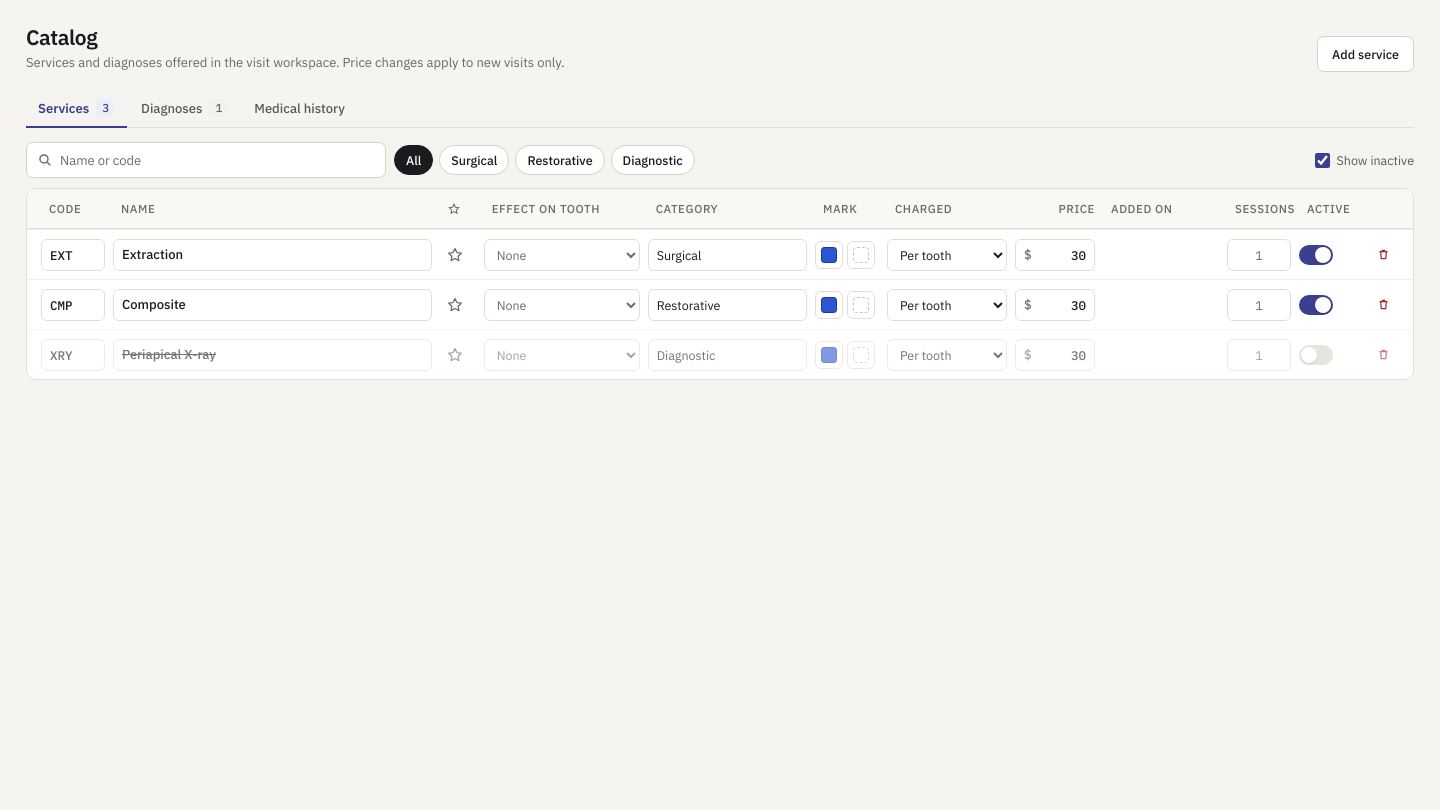
Test: CatalogPage › saves the changed rows as one batch
Click the 2nd button named "Frequently used". click: [455, 305]
box: [440,290,470,320]
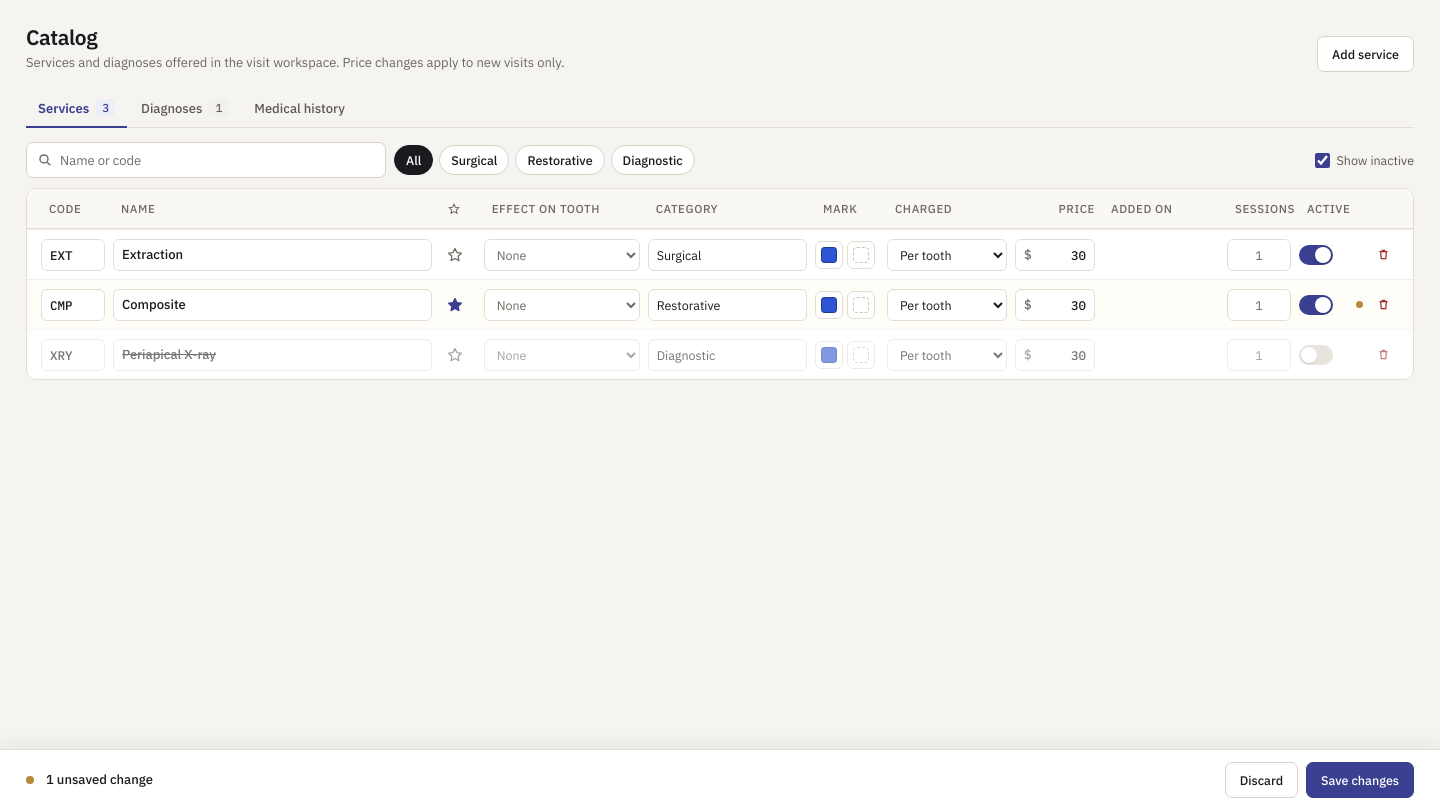
Click the button "Save changes". click: [1360, 780]
box: [1306,762,1414,798]
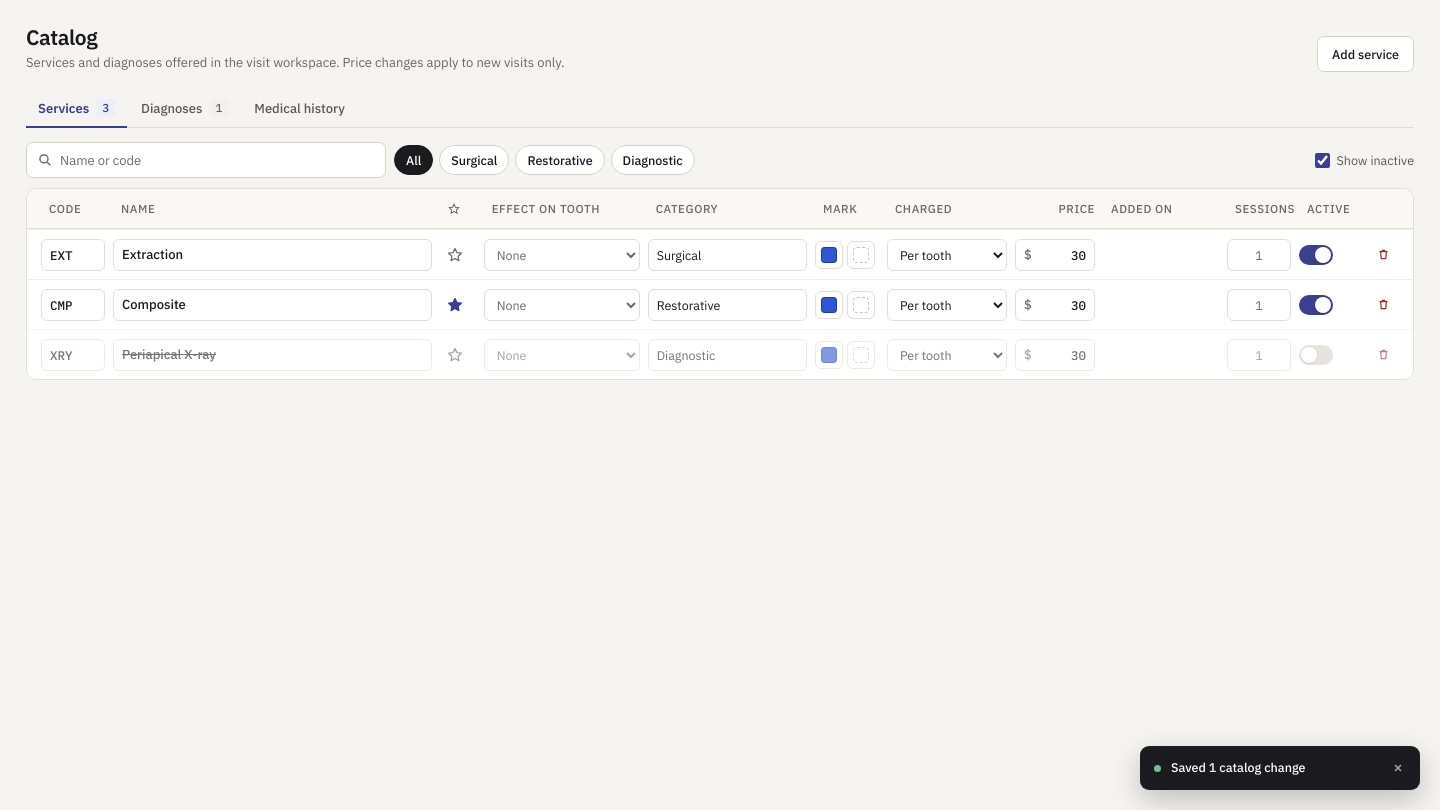
Now the text "Saved 1 catalog change" is shown, box [1171,759,1306,775]
Now the text "unsaved" is gone
